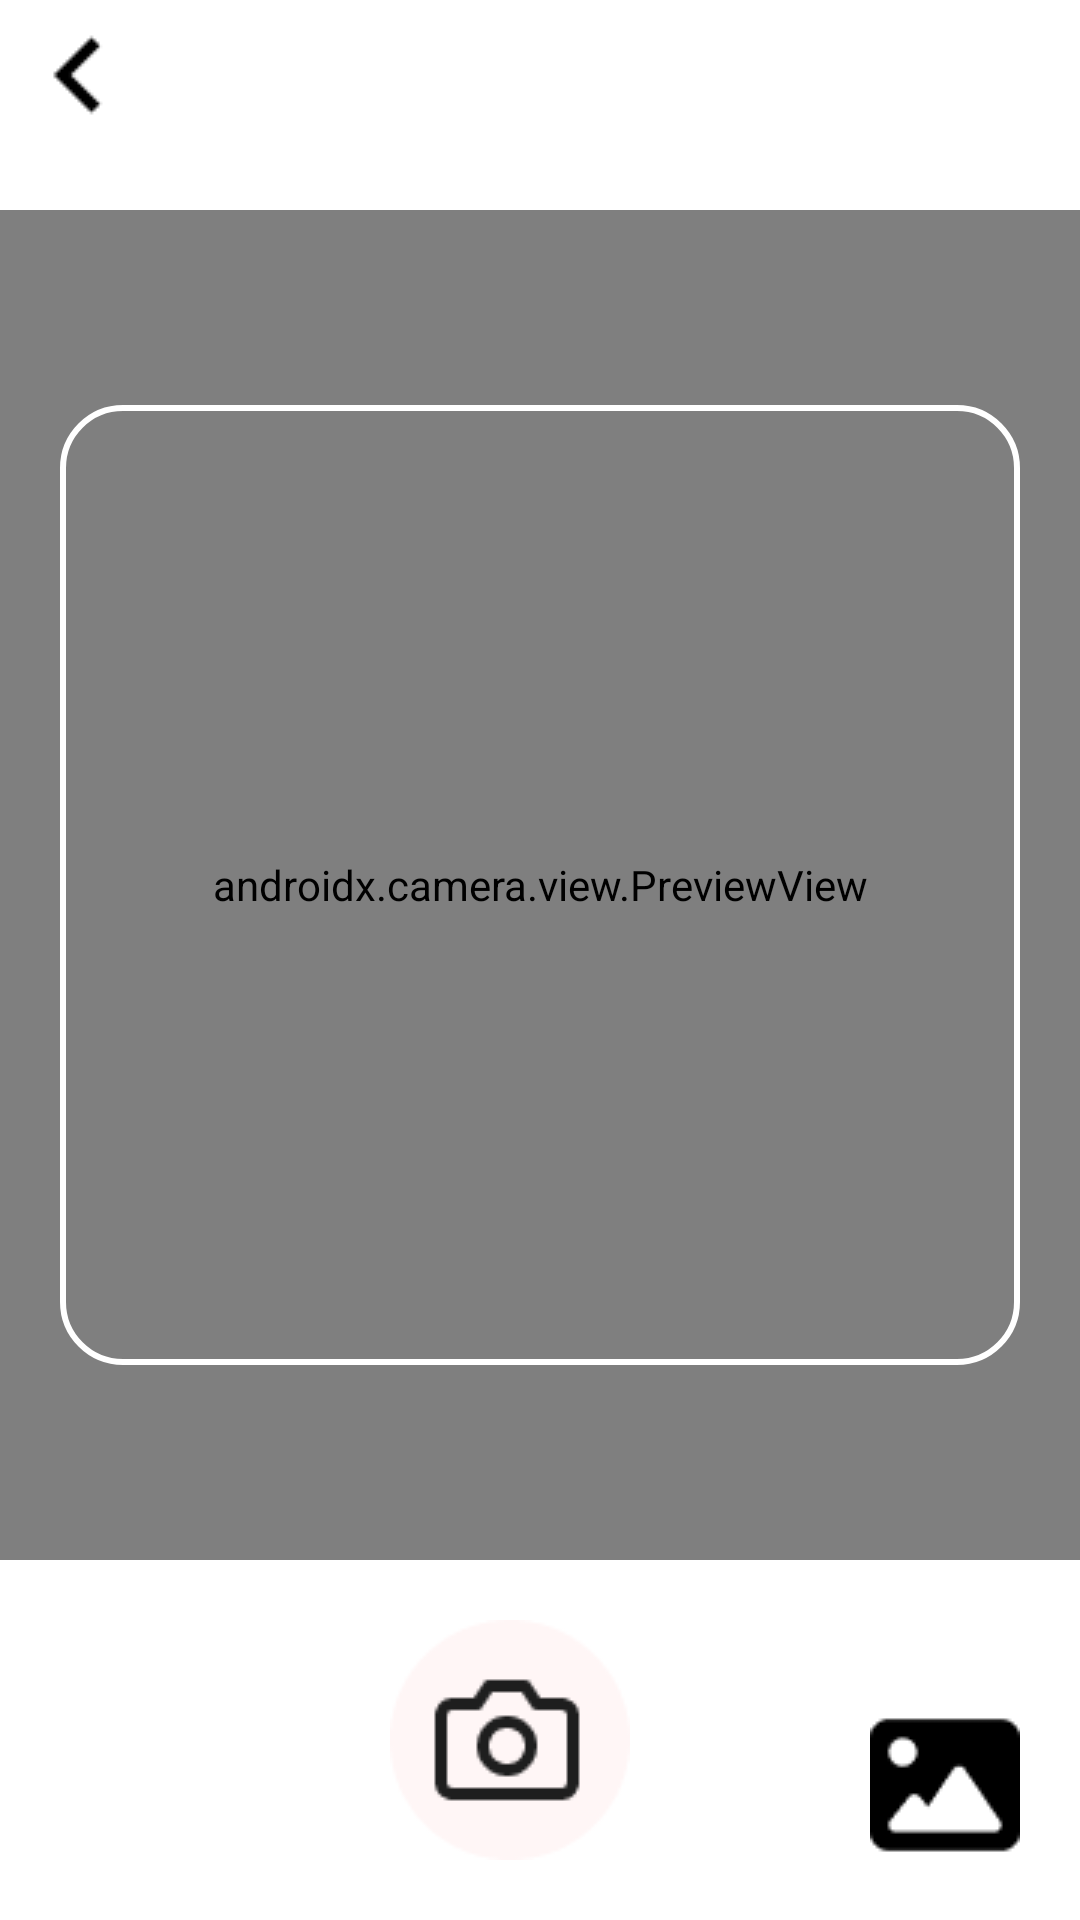

Named icons in this screenshot (1080w x 1920h) and their centers, [x,y]:
navigate back: [77,75]
